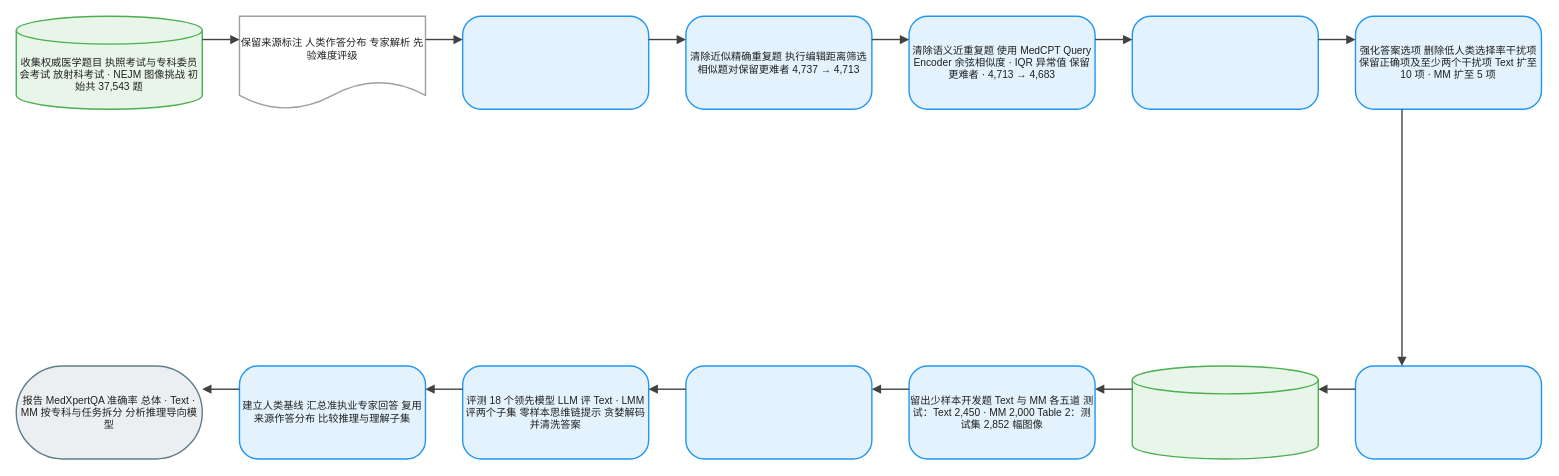
The diagram is 1559 pixels wide and 476 high, and some of its shapes have lost their labels. The centre of each missing label's shape, as x and y in pixels:
"多轮医学专家复核 执业医师检查每道题 修正事实叙事与选项问题 删除残余不合格项 · 得 4,460 题" goes at pixel 1448 412.
"形成 Text 与 MM 子集 Text：2,455 · MM：2,005 正文概览：MM 共 2,839 幅图像 17 个专科 · 11 个身体系统" goes at pixel 1225 412.
"改写公开来源题干 GPT-4o 与 Claude 3.5 Sonnet 保留全部临床信息 降低记忆泄漏风险" goes at pixel 1225 62.
"添加分析标签 三类任务与细粒度子任务 推理类与理解类 人工复核随机 10% 标签" goes at pixel 778 412.
"筛出专家级难题 按先验评级设自适应 Brier 阈值 八个 AI 专家 · 每题 14 次投票 37,543 → 10,146 → 4,737" goes at pixel 555 62.
